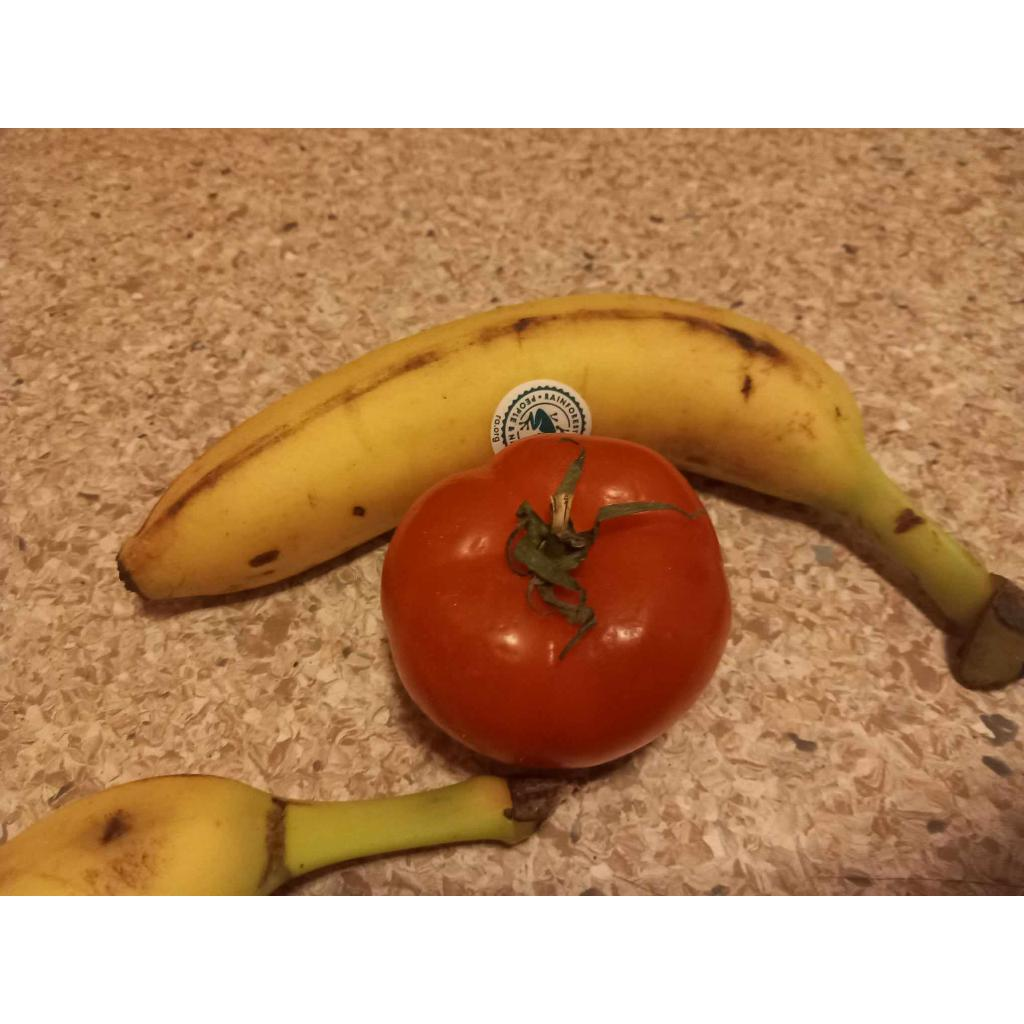banana: (118, 294, 1024, 688), (0, 776, 538, 894)
tomato: (382, 434, 730, 768)
